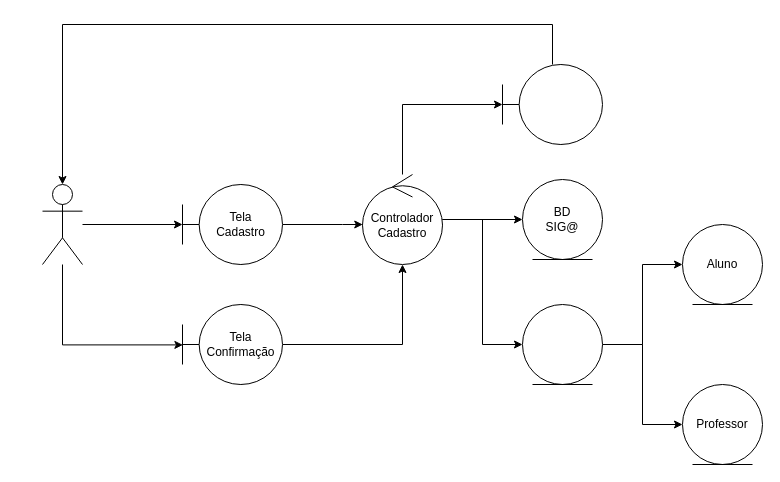
The diagram is 780 pixels wide and 482 high, and some of its shapes have lost their labels. Here are the shapes that lost their labels. From the top down, the box of each, then its label:
(502, 64, 602, 144): Sistema Email
(42, 184, 82, 264): Usuário Anônimo
(522, 304, 602, 384): BD Usuários
